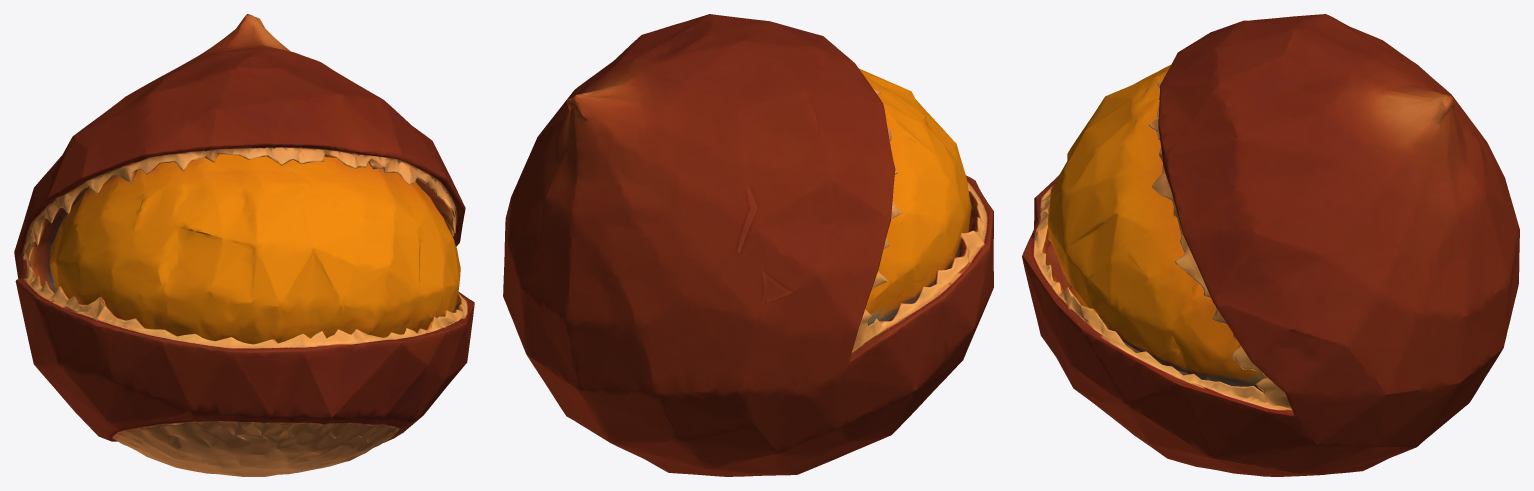
Rendered from chestnut-v39.glb.
The picture shows the model from 3 angles, left to right: view 1: azimuth 30°, elevation 25°; view 2: azimuth 150°, elevation 25°; view 3: azimuth 270°, elevation 25°; orthographic projection. The views are drawn at different scales.
Visible parts, largest first — view 1: tripo_node_d13d32a5; view 2: tripo_node_d13d32a5; view 3: tripo_node_d13d32a5.
Boxes of the visible parts, x1,y1,x2,y2 form: tripo_node_d13d32a5: [14, 14, 474, 476]; tripo_node_d13d32a5: [503, 14, 993, 476]; tripo_node_d13d32a5: [1022, 14, 1519, 476].
Bounding box in the file's own units: 0.9802 × 0.9024 × 0.9764.
Materials: 1 (1 with a texture image).
